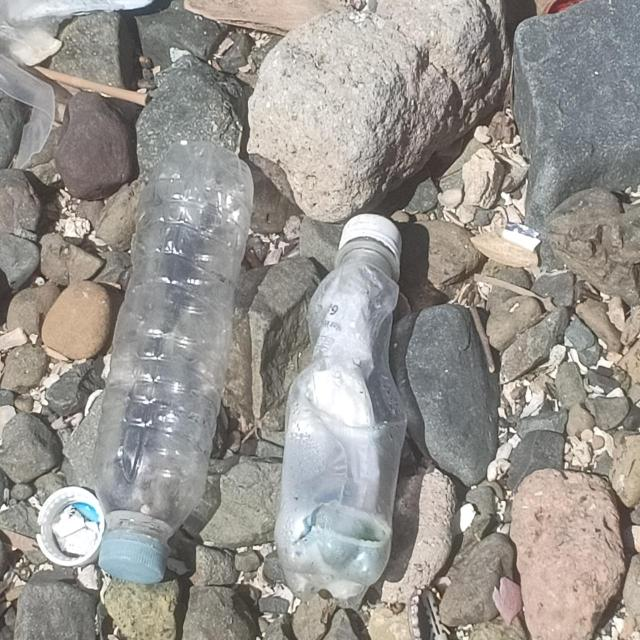plastic_waste: (92, 141, 256, 583), (277, 214, 404, 612), (38, 485, 107, 569)
